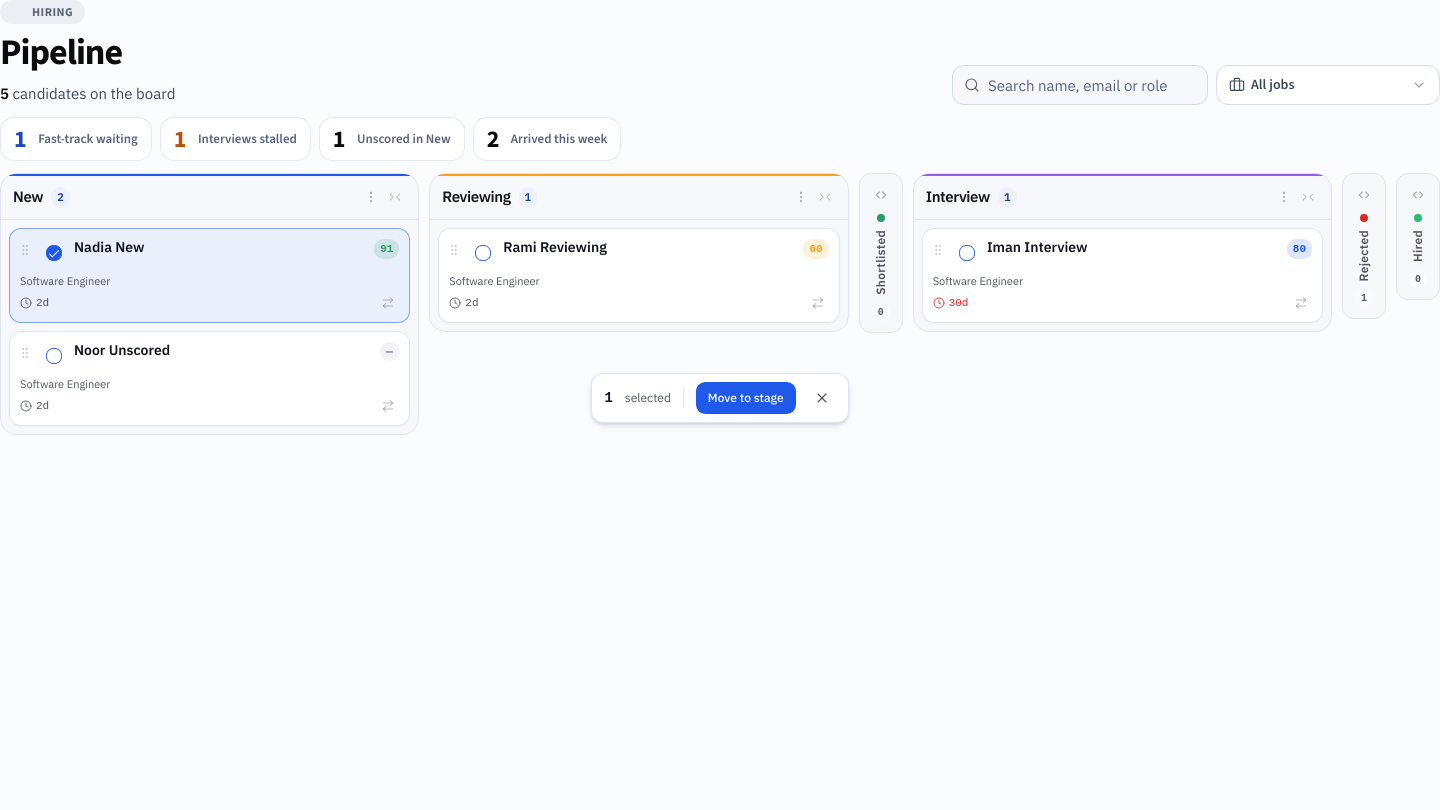
Test: PipelineBoard › confirms before a bulk move into a terminal stage
Earlier steps of the test are not shown.
Later steps or results of the test are not shown.
Click the checkbox named "Select Noor Unscored": (54, 356) [46,348,62,364]
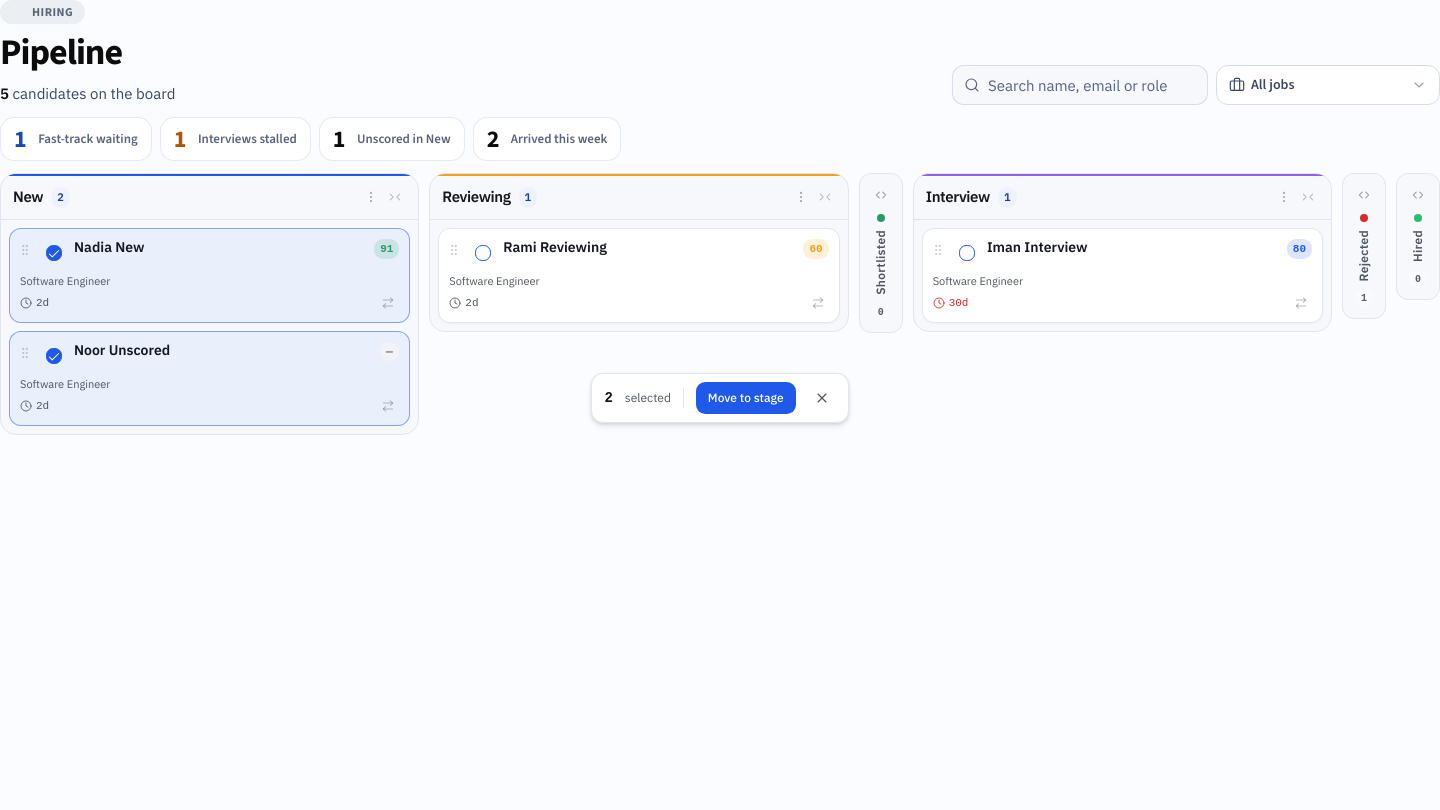
Press the mouse on the button "Move to stage": (746, 398) [696,382,796,414]
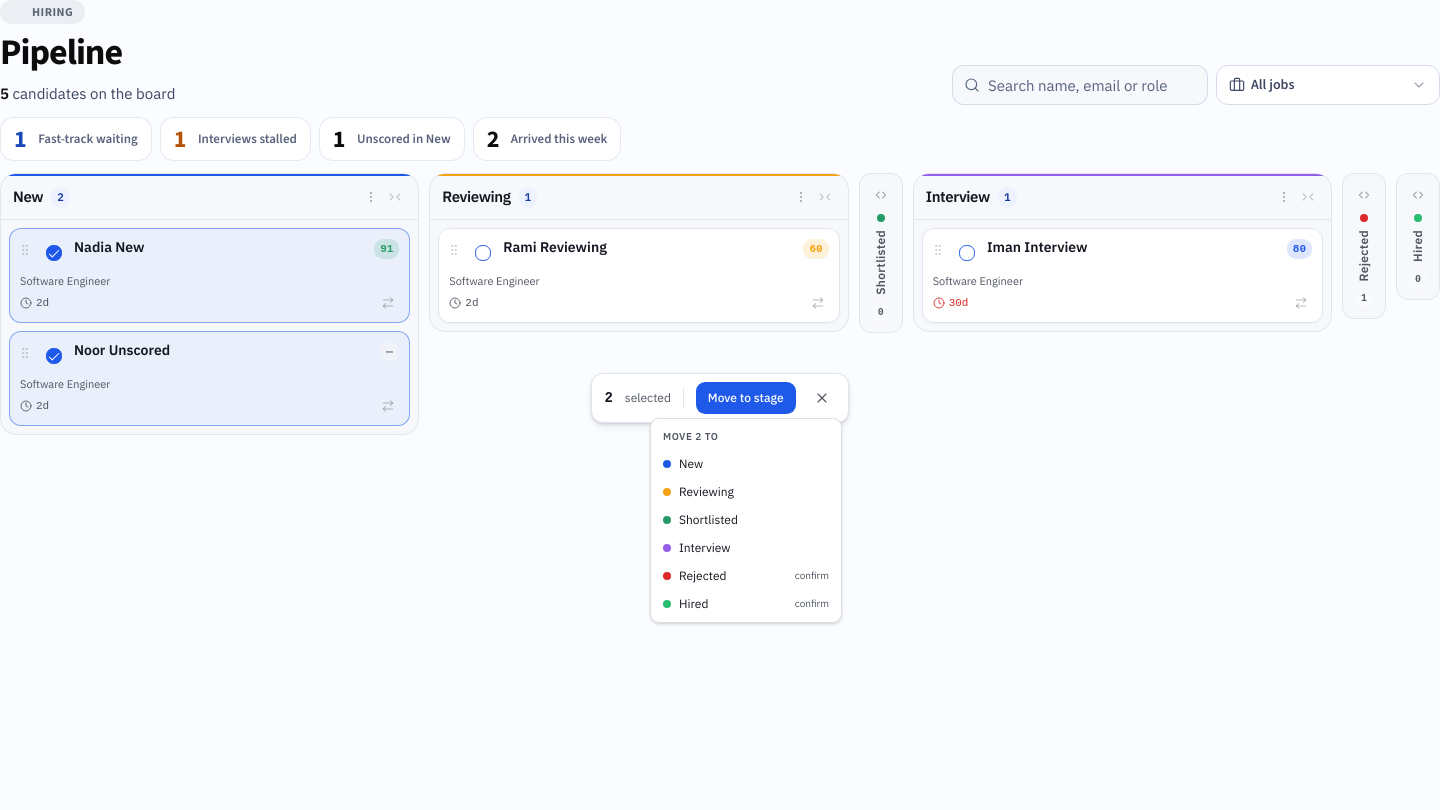
Click the menu item "Rejected confirm": (703, 576) [663,568,829,583]
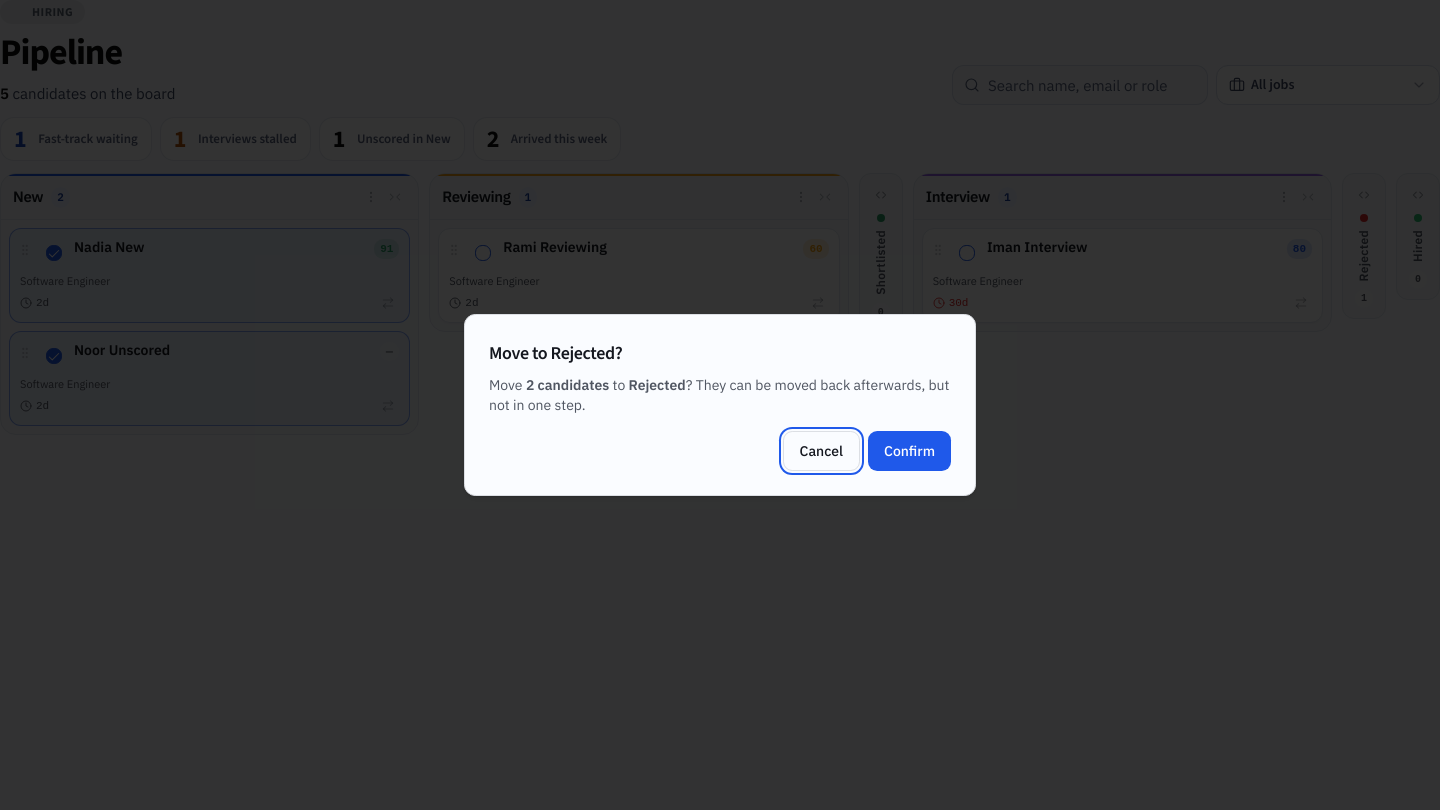
Expected: the text "2 candidates" is shown, [526,376,609,394]
